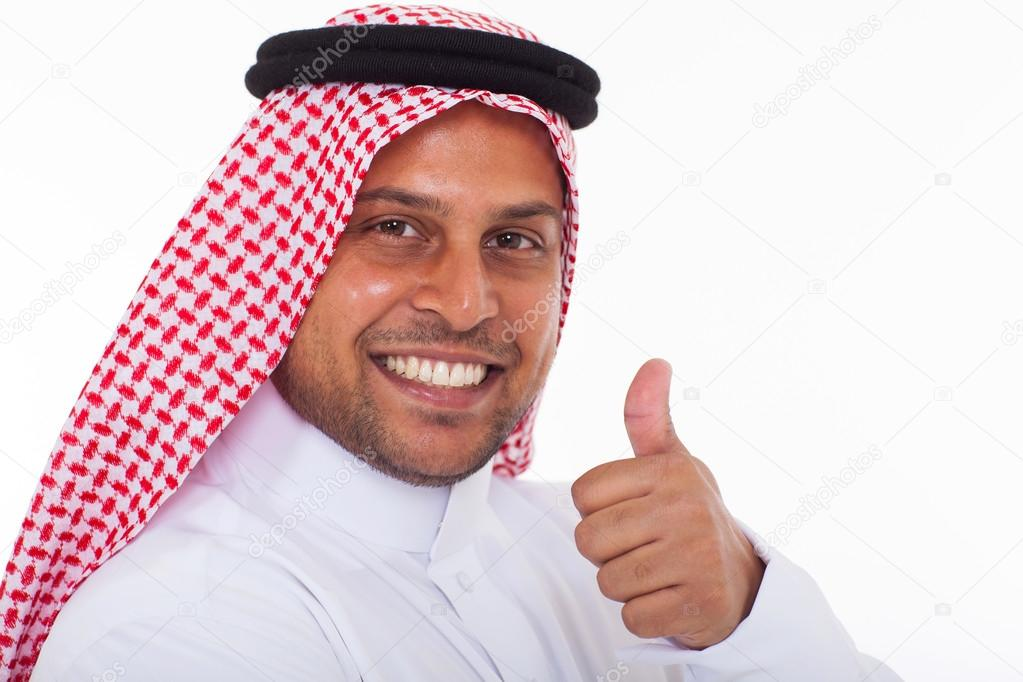thumbsUp: (548, 340, 768, 660)
